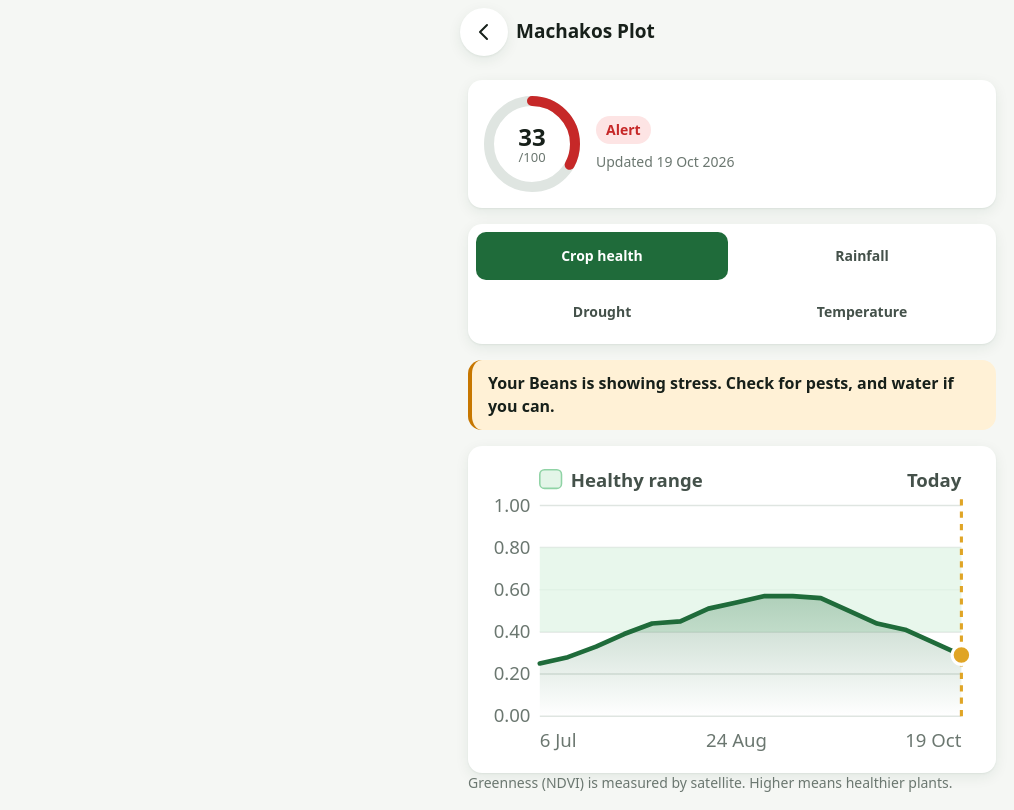
Test case: choosing a tab updates ?tab= and replaces history
The width and height of the screenshot is (1014, 810).
Click the tab "Rainfall". click: (862, 256)
box: x1=736 y1=232 x2=988 y2=280
(page scrolled)
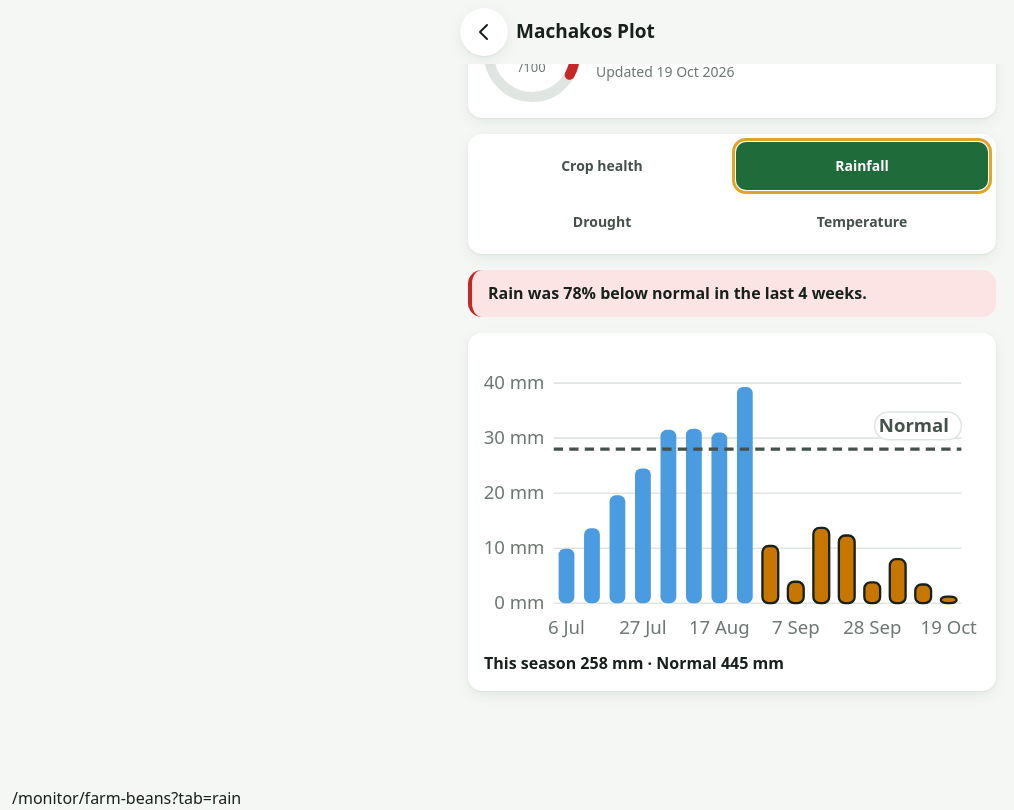
Result: the text with test id "loc" reads "/monitor/farm-beans?tab=rain" at x1=12 y1=787 x2=241 y2=809
